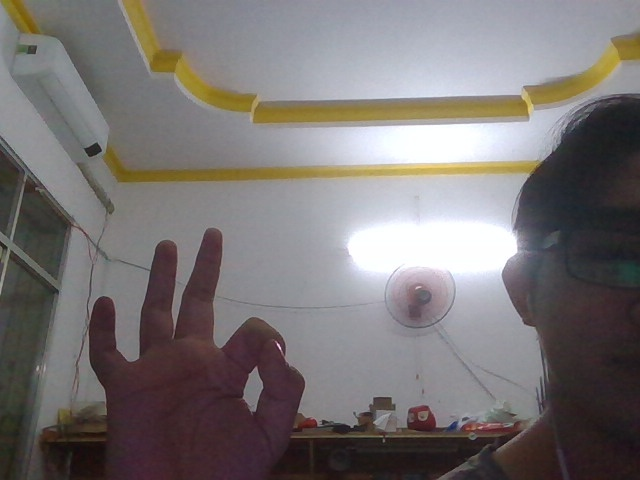okay: (78, 205, 336, 480)
